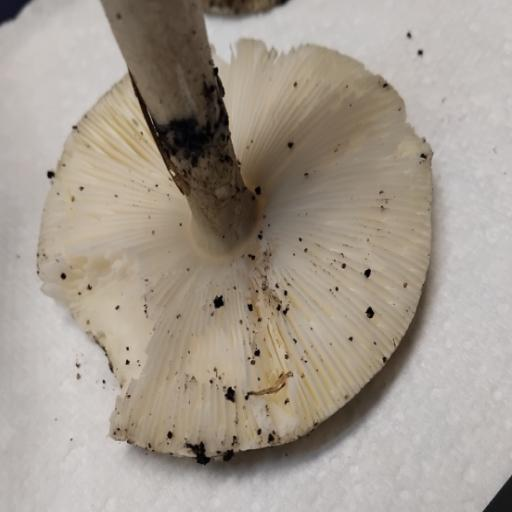Death Cap: (20, 0, 450, 465)
